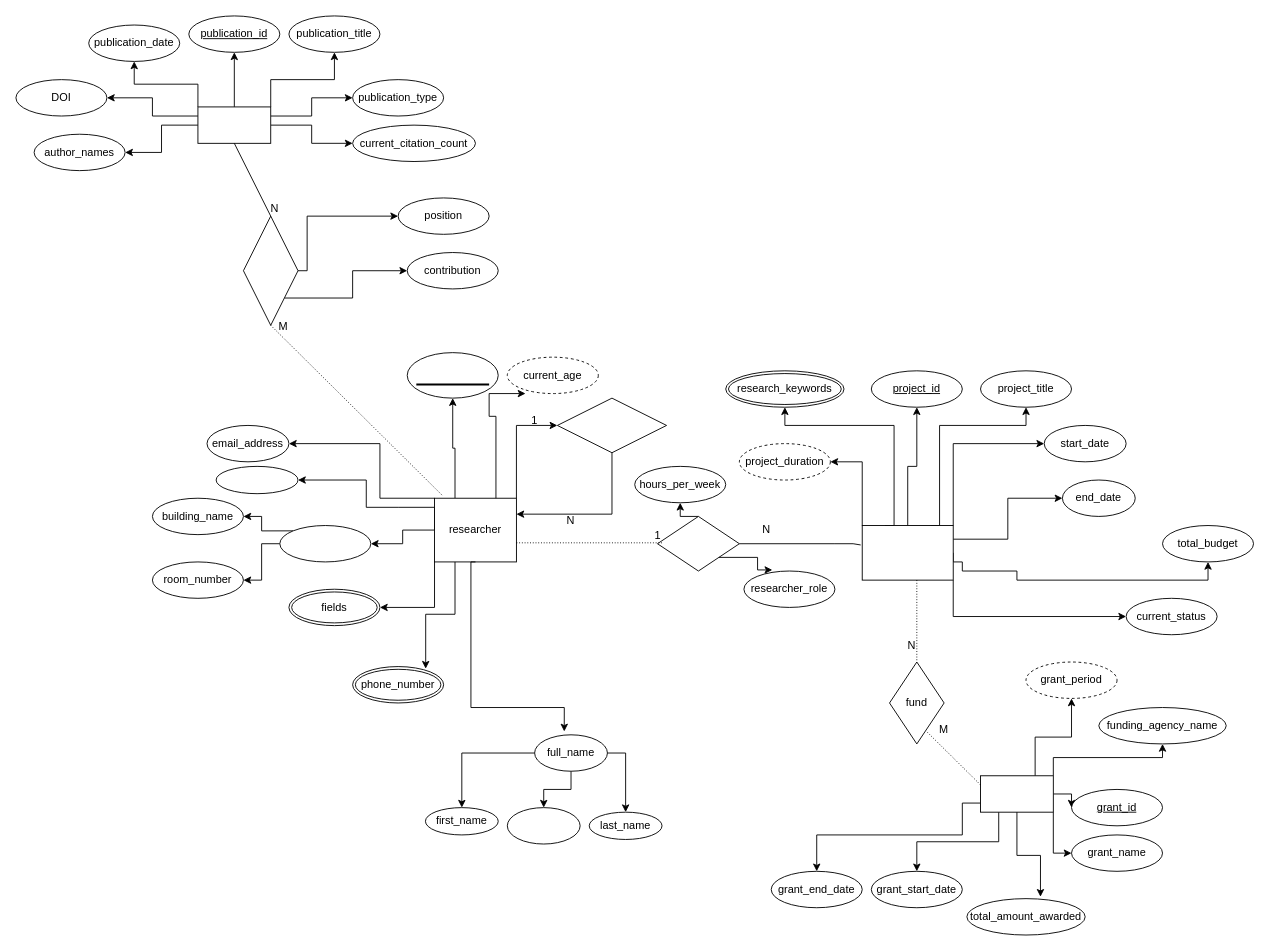
This 1269x951 diagram has some shape labels left out. The centre of each missing label's shape, as x and y in pixels:
author: the point at 270,270
date_of_birth: the point at 256,479
grants: the point at 1016,793
lead: the point at 698,543
middle_name: the point at 543,825
office_location: the point at 325,543
publications: the point at 234,124
reasearcher_id: the point at 452,375
research_project: the point at 907,552
supervise: the point at 611,425
